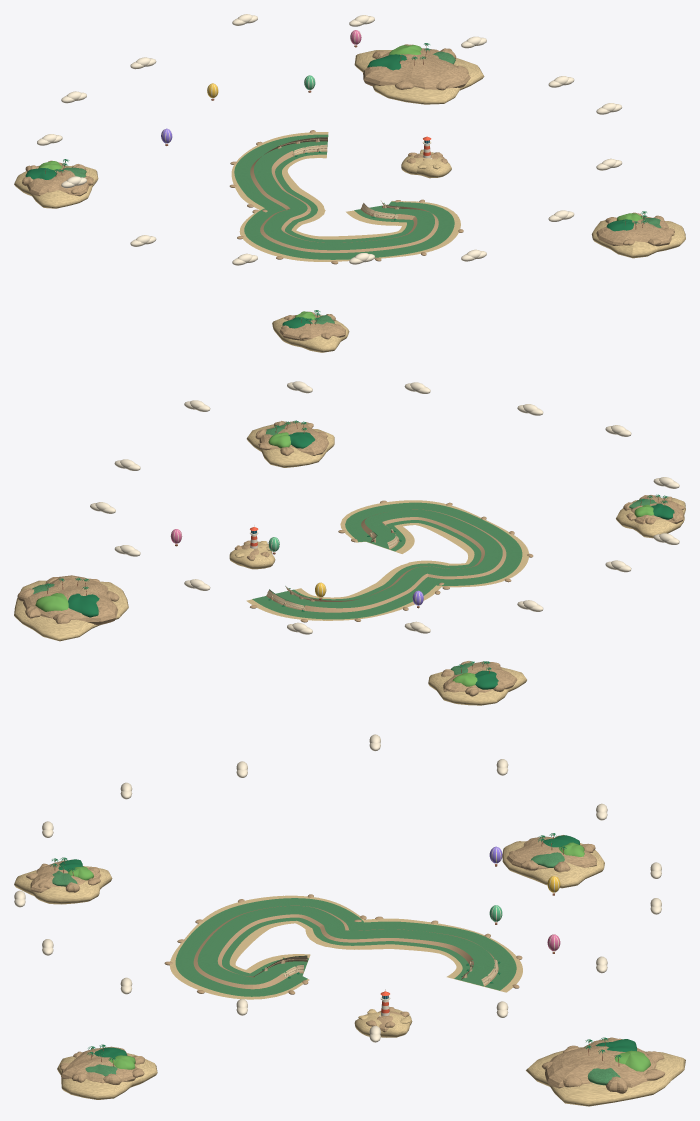
3 views of the same model, one above another, from view 1: azimuth 30°, elevation 25°; view 2: azimuth 150°, elevation 25°; view 3: azimuth 270°, elevation 25° (orthographic). The views are drawn at different scales.
Visible parts, largest first — view 1: grass, rock, sand, ivory, leaf, lime, Exposed pale limestone strata; view 2: grass, sand, rock, ivory, leaf, lime; view 3: grass, sand, rock, ivory, leaf, lime.
Part boxes in pixels (box(x1,y1,x2,y2)): grass: box(62, 51, 661, 324); rock: box(22, 44, 674, 340); sand: box(14, 50, 685, 352); ivory: box(37, 14, 622, 265); leaf: box(25, 43, 647, 328); lime: box(39, 44, 643, 319); Exposed pale limestone strata: box(279, 137, 399, 218); grass: box(32, 424, 656, 674); sand: box(14, 424, 685, 705); rock: box(17, 421, 684, 696); ivory: box(90, 381, 679, 634); leaf: box(45, 420, 674, 689); lime: box(35, 423, 653, 686); grass: box(52, 852, 620, 1085); sand: box(14, 841, 685, 1106); rock: box(26, 835, 665, 1093); ivory: box(14, 734, 661, 1042); leaf: box(50, 833, 637, 1060); lime: box(55, 834, 650, 1071).
Size of the model in its own units: 523 by 89.53 by 522.
Materials: 15 (3 with a texture image).
